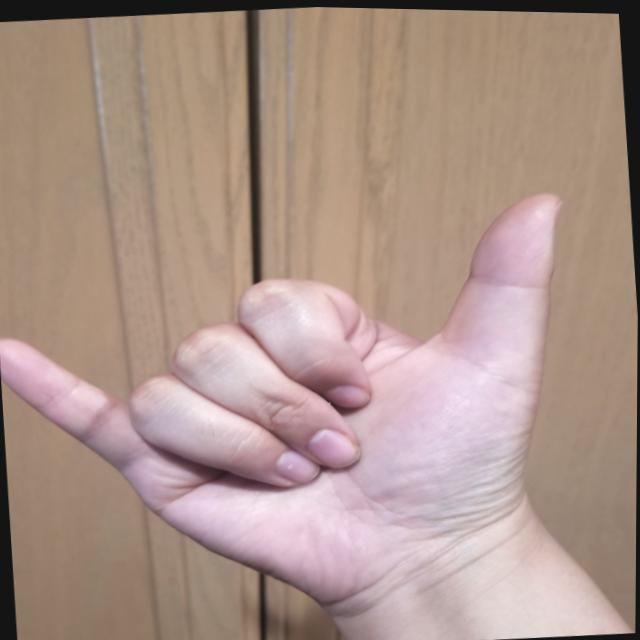Y: (0, 170, 603, 629)
